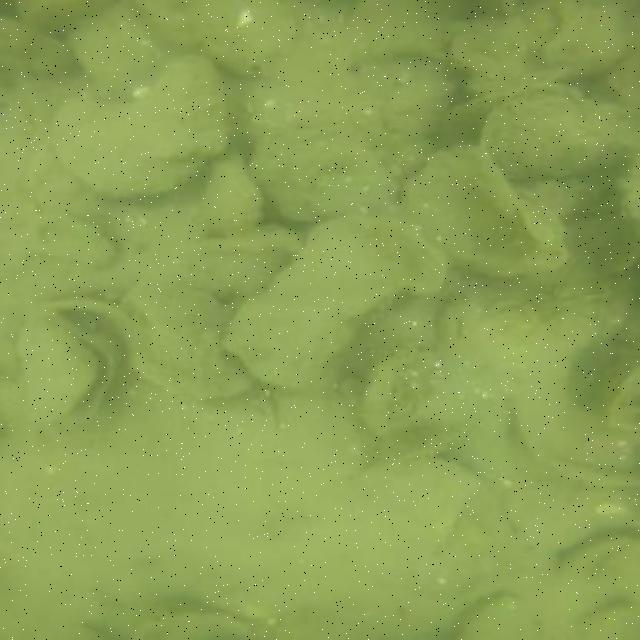Oyster-Closed: (220, 217, 430, 386), (399, 135, 578, 278), (52, 54, 231, 195), (124, 282, 253, 398), (253, 120, 394, 222), (480, 88, 639, 176), (191, 4, 295, 82), (531, 2, 630, 80), (9, 204, 116, 268), (381, 64, 454, 138), (44, 292, 141, 340), (203, 156, 267, 226), (138, 603, 241, 640), (460, 597, 552, 638)
Oyster-Open: (4, 304, 124, 435)
